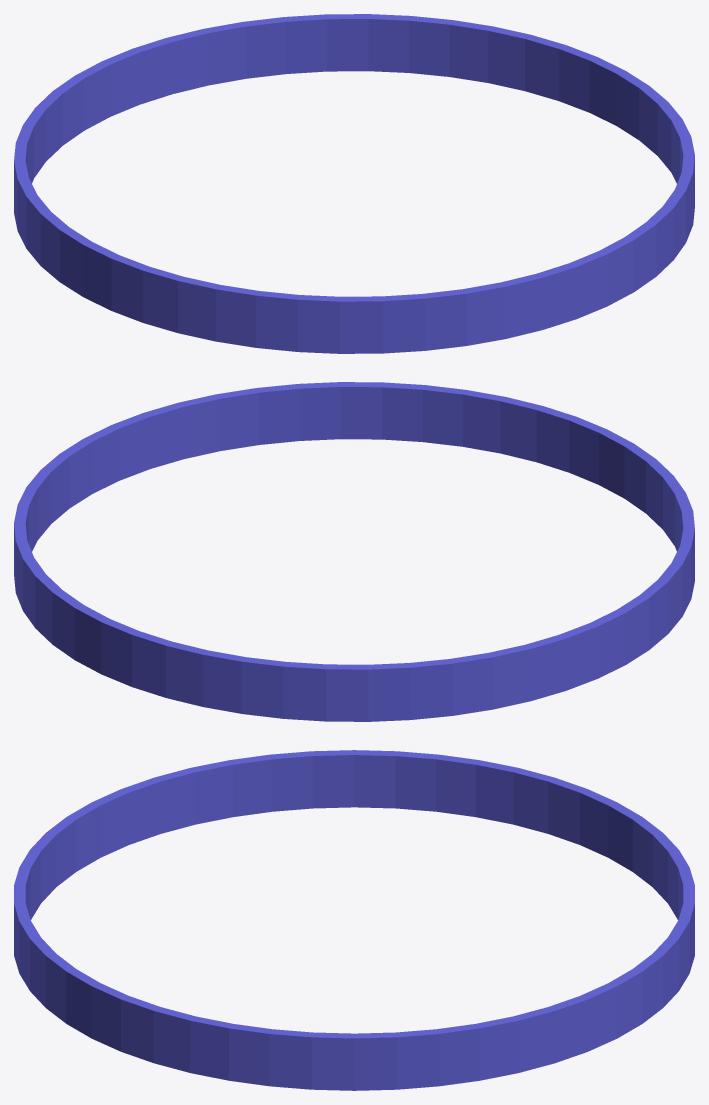
Rendered from SideMotor.obj.
The picture shows the model from 3 angles, top to bottom: view 1: azimuth 30°, elevation 25°; view 2: azimuth 150°, elevation 25°; view 3: azimuth 270°, elevation 25°; orthographic projection.
Visible parts, largest first — view 1: SideMotor; view 2: SideMotor; view 3: SideMotor.
Part boxes in pixels (x1=…): SideMotor: x1=14, y1=14, x2=694, y2=353; SideMotor: x1=14, y1=382, x2=694, y2=721; SideMotor: x1=14, y1=750, x2=694, y2=1090.
Bounding box in the file's own units: 2.36 × 0.2 × 2.36.
